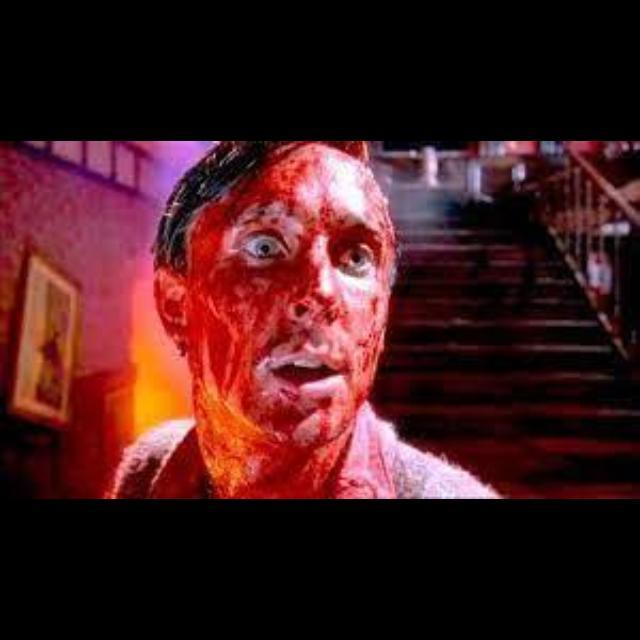blood: (115, 145, 499, 498)
